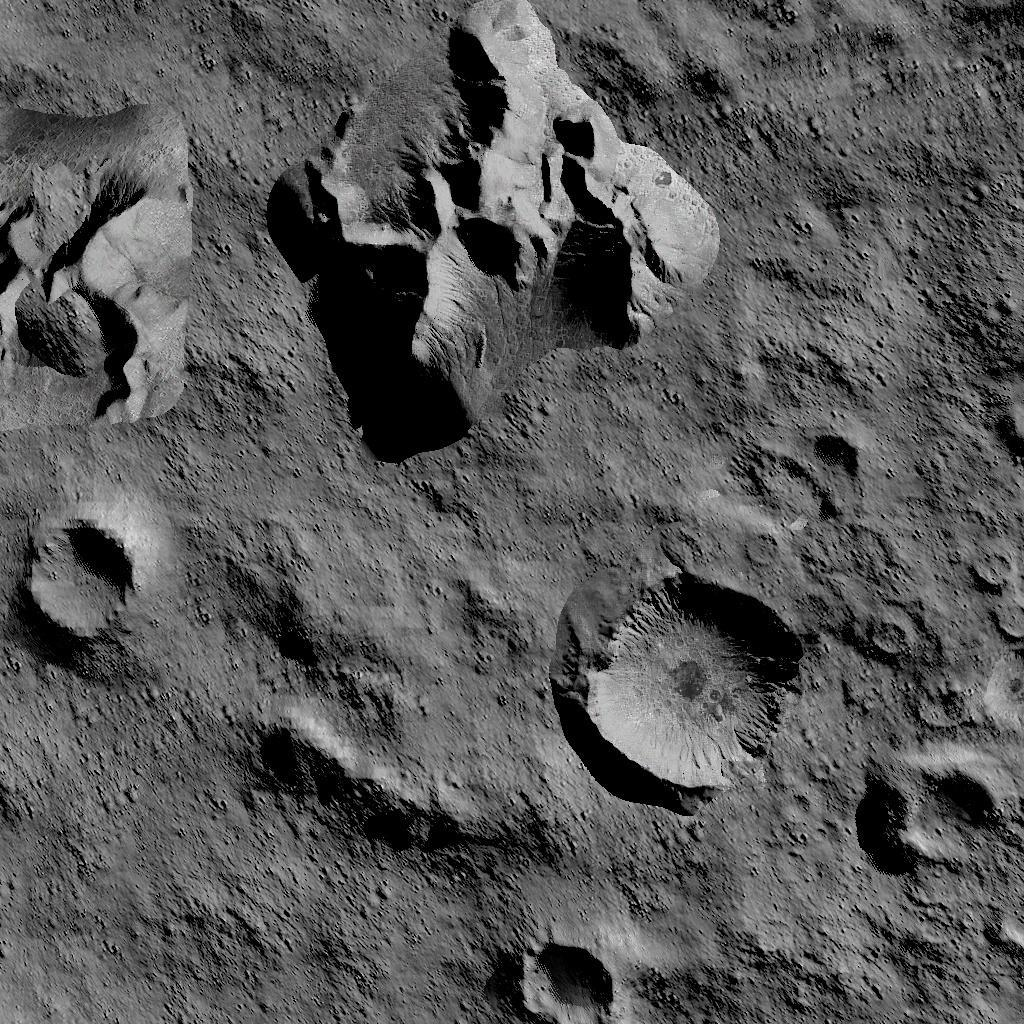Boulders: (268, 0, 720, 463), (0, 90, 191, 428), (254, 715, 566, 865)
Crater: (578, 568, 808, 800), (851, 745, 1008, 880), (18, 512, 143, 642), (516, 940, 623, 1024)
Plan surface: (738, 0, 1024, 545), (0, 652, 241, 1024), (256, 878, 503, 1024)
